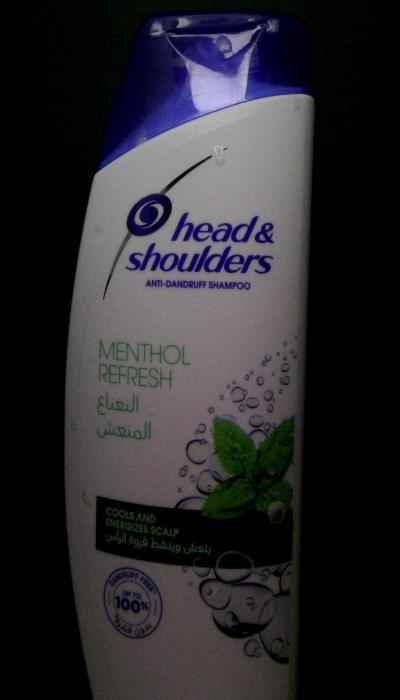pob_marg: (144, 16, 171, 48), (282, 91, 308, 124), (210, 140, 234, 173), (172, 10, 198, 40), (72, 487, 96, 516), (64, 412, 86, 441), (88, 216, 108, 242), (130, 129, 152, 152), (264, 15, 282, 40), (211, 36, 233, 55), (244, 14, 257, 28)
